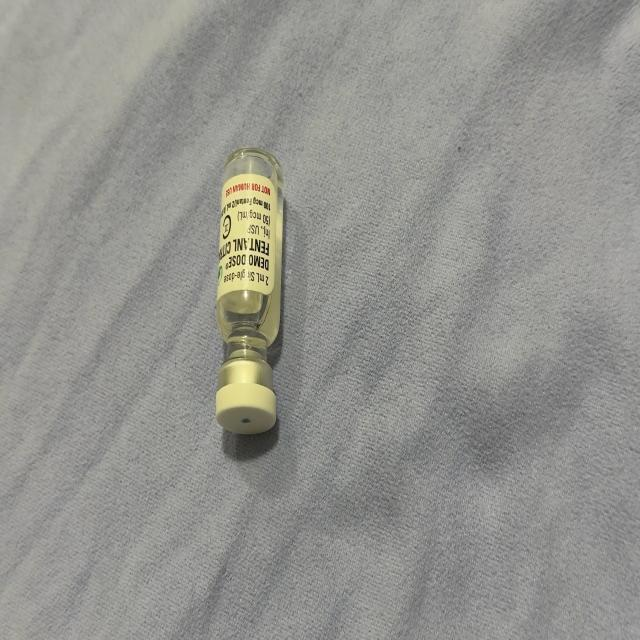fentanl_citrat: (216, 152, 283, 430)
